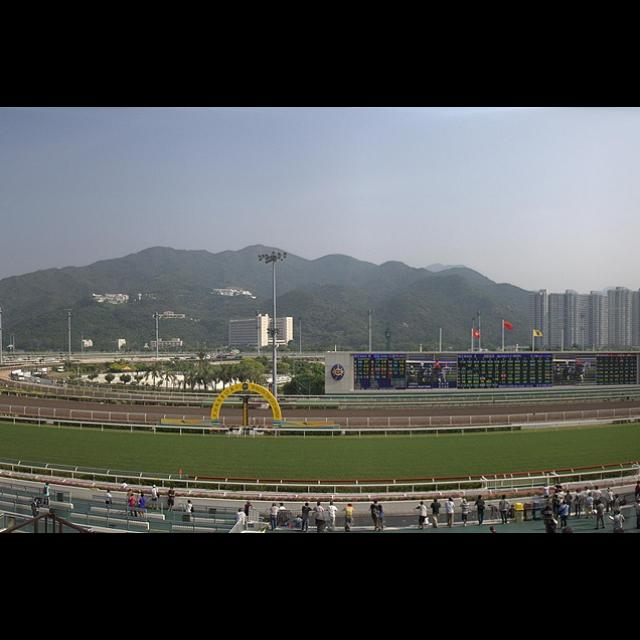head: (487, 505, 501, 527), (238, 508, 244, 514), (462, 500, 468, 506), (478, 496, 484, 502), (502, 496, 508, 502), (614, 494, 620, 500), (141, 494, 145, 500), (304, 504, 310, 508), (379, 506, 383, 512), (420, 502, 426, 506), (563, 502, 569, 506), (577, 490, 581, 496), (598, 500, 604, 504), (608, 488, 612, 494), (616, 511, 620, 517), (36, 500, 40, 504), (108, 490, 112, 494), (131, 494, 135, 498), (153, 485, 157, 489), (171, 488, 175, 492), (188, 501, 192, 505), (248, 501, 252, 505), (274, 503, 278, 507), (280, 504, 284, 508), (318, 503, 322, 507), (331, 502, 335, 506), (349, 504, 353, 508), (374, 501, 378, 505), (434, 498, 438, 502), (449, 498, 453, 502), (567, 491, 571, 495), (586, 487, 590, 491), (596, 487, 600, 491), (46, 484, 50, 486)
person: (412, 501, 431, 533), (368, 500, 384, 534), (472, 494, 486, 530), (444, 497, 458, 531), (429, 498, 443, 530), (458, 498, 472, 530), (498, 495, 512, 527), (590, 485, 604, 517), (594, 501, 608, 532), (610, 494, 622, 528), (572, 488, 584, 520), (558, 501, 570, 532), (234, 507, 248, 533), (604, 487, 616, 517), (30, 498, 42, 526), (150, 484, 162, 512), (582, 486, 594, 514), (487, 505, 501, 527), (278, 502, 288, 532), (104, 488, 114, 516), (167, 486, 177, 514), (563, 489, 573, 517), (243, 501, 254, 525), (42, 482, 52, 508), (136, 493, 148, 511), (128, 493, 138, 512), (185, 499, 195, 518)
